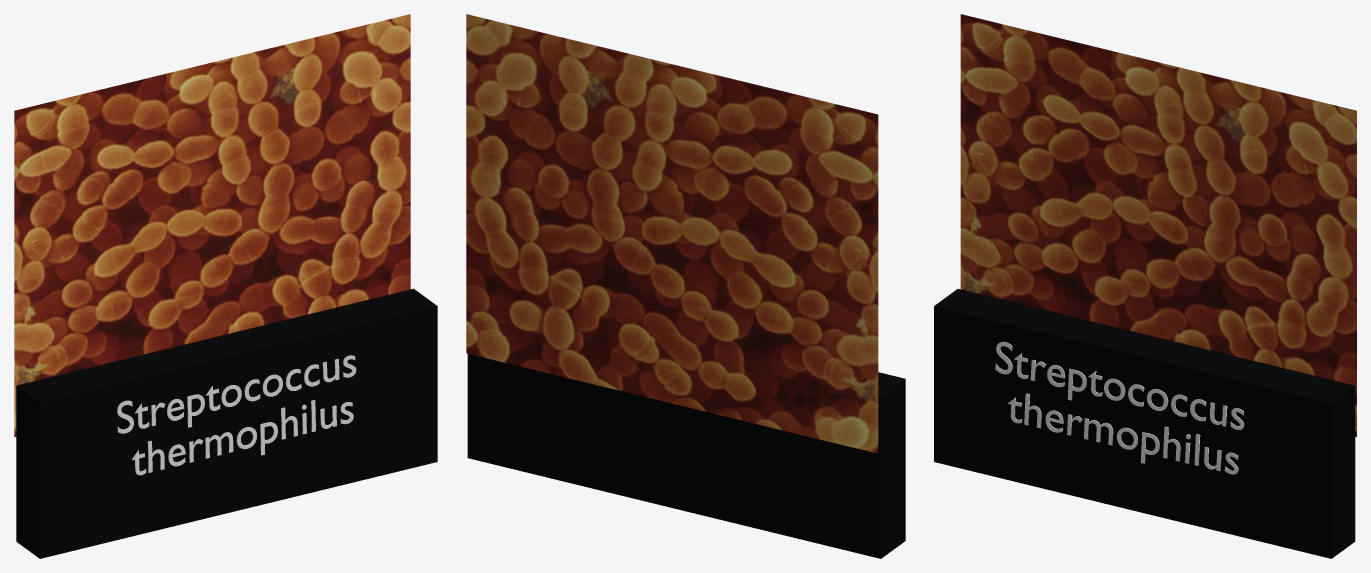
3 renders of one model, left to right at view 1: azimuth 30°, elevation 25°; view 2: azimuth 150°, elevation 25°; view 3: azimuth 330°, elevation 25°, orthographic. The views are drawn at different scales.
Visible parts, largest first — view 1: Streptococcus-thermophilus, Cube.002, Text.002; view 2: Streptococcus-thermophilus, Cube.002; view 3: Streptococcus-thermophilus, Cube.002, Text.002.
Part boxes in pixels (x1,y1,x2,y2): Streptococcus-thermophilus: [14, 14, 410, 436]; Cube.002: [16, 288, 437, 558]; Text.002: [117, 355, 356, 475]; Streptococcus-thermophilus: [466, 14, 878, 453]; Cube.002: [467, 354, 905, 558]; Streptococcus-thermophilus: [960, 14, 1356, 436]; Cube.002: [934, 289, 1355, 558]; Text.002: [995, 342, 1244, 474].
Bounding box in the file's own units: 2.04 × 2.1 × 0.3169.
Materials: 2 (1 with a texture image).
